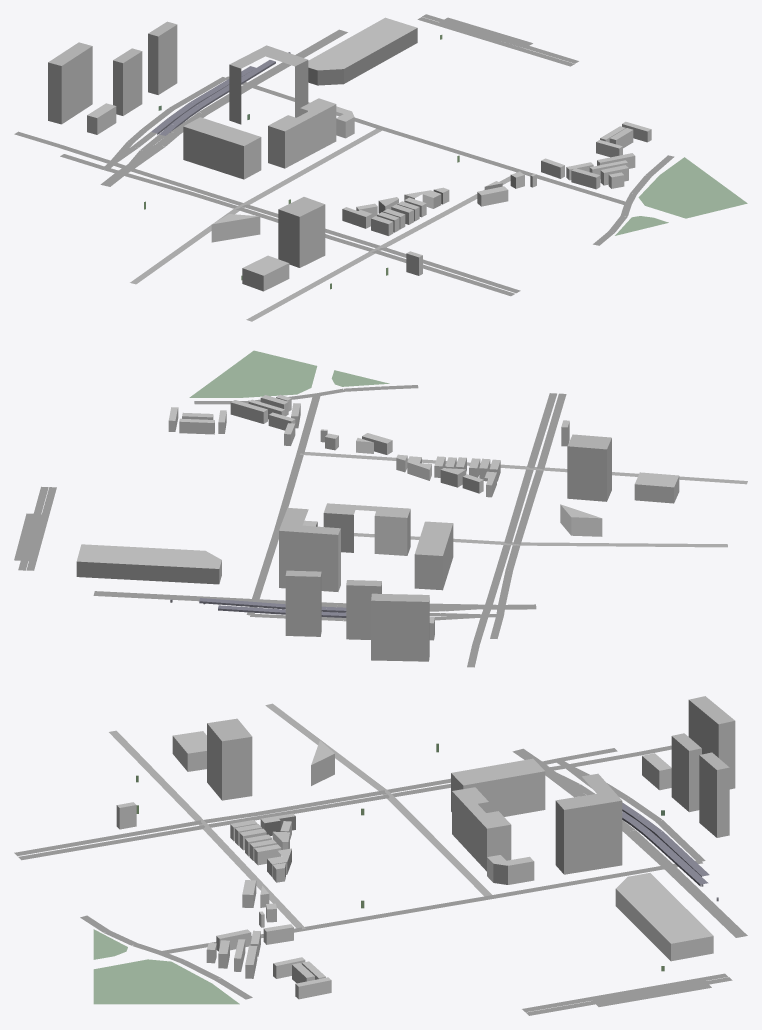
3 renders of one model, top to bottom at view 1: azimuth 30°, elevation 25°; view 2: azimuth 150°, elevation 25°; view 3: azimuth 270°, elevation 25°, orthographic. The views are drawn at different scales.
Bounding box in the file's own units: 599 × 62.49 × 587.
